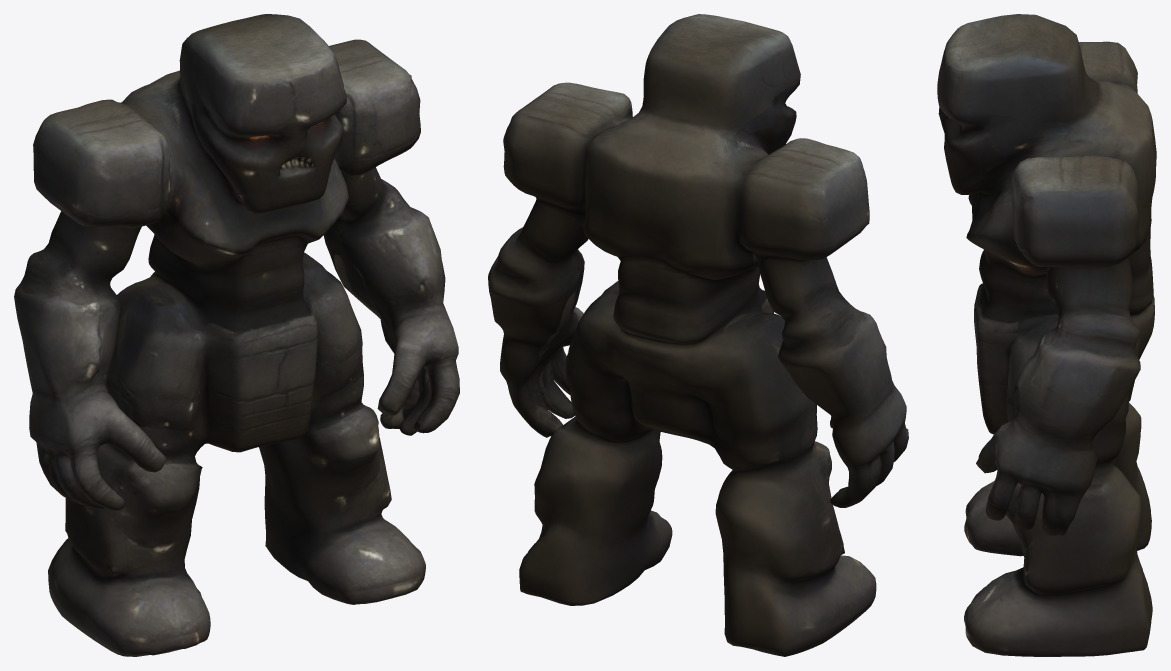
The model's file is Hi_I_am_making_a_3d__0114132323_texture.fbx.
3 views of the same model, side by side, from view 1: azimuth 30°, elevation 25°; view 2: azimuth 150°, elevation 25°; view 3: azimuth 270°, elevation 25° (orthographic). The views are drawn at different scales.
Visible parts, largest first — view 1: Mesh1_Mesh1.007; view 2: Mesh1_Mesh1.007; view 3: Mesh1_Mesh1.007.
Boxes of the visible parts, left/top/right/bottom form: Mesh1_Mesh1.007: left=14, top=14, right=459, bottom=656; Mesh1_Mesh1.007: left=488, top=14, right=908, bottom=656; Mesh1_Mesh1.007: left=937, top=14, right=1156, bottom=656.
Size of the model in its own units: 145 by 200 by 71.69.
Materials: 1 (1 with a texture image).
